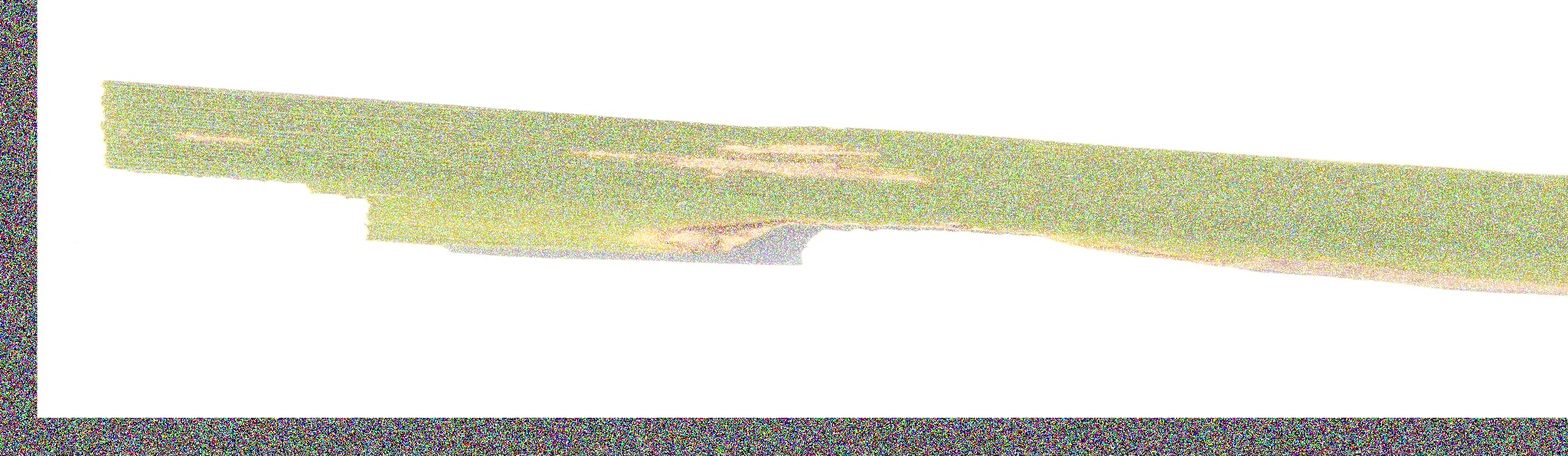Leaf_Blast: (507, 99, 977, 186), (125, 101, 301, 157)
